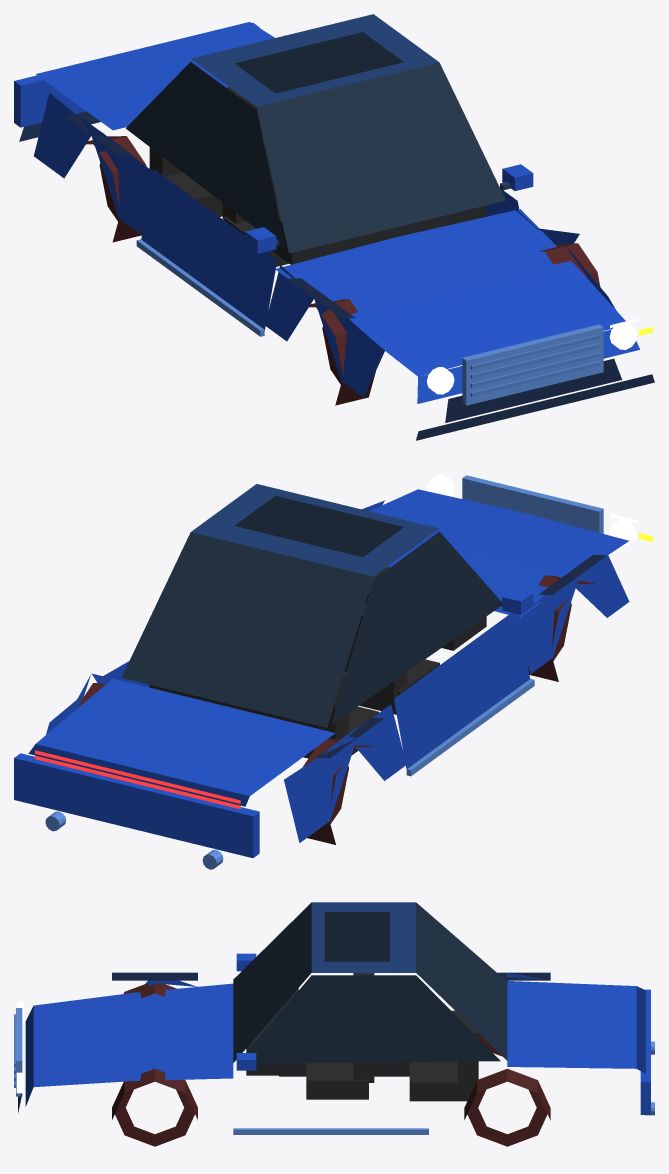
The model's file is executive_sedan_lod2.glb.
3 renders of one model, top to bottom at view 1: azimuth 30°, elevation 25°; view 2: azimuth 150°, elevation 25°; view 3: azimuth 270°, elevation 25°, orthographic. The views are drawn at different scales.
Visible parts, largest first — view 1: Chassis, Glass, Interior, Wheel_FL, Wheel_RL, Headlights, Wheel_FR; view 2: Chassis, Glass, Interior, BrakeLights, Headlights, Wheel_RL, Wheel_FL; view 3: Glass, Chassis, Interior, Wheel_RR, Wheel_FR, Wheel_FL.
Part boxes in pixels (box(x1,y1,x2,y2)): Chassis: box(14, 22, 654, 440); Glass: box(126, 14, 505, 253); Interior: box(149, 87, 486, 266); Wheel_FL: box(297, 299, 375, 405); Wheel_RL: box(75, 136, 146, 242); Headlights: box(426, 318, 638, 394); Wheel_FR: box(539, 243, 600, 286); Chassis: box(14, 475, 629, 869); Glass: box(121, 484, 500, 727); Interior: box(149, 566, 486, 758); BrakeLights: box(35, 750, 240, 809); Headlights: box(426, 474, 638, 546); Wheel_RL: box(303, 738, 374, 844); Wheel_FL: box(527, 575, 595, 681); Glass: box(233, 902, 507, 1063); Chassis: box(14, 953, 654, 1134); Interior: box(246, 973, 478, 1101); Wheel_RR: box(464, 1068, 550, 1146); Wheel_FR: box(112, 1069, 197, 1146); Wheel_FL: box(123, 983, 176, 998).
Bounding box in the file's own units: 1.93 × 1.46 × 4.91.
